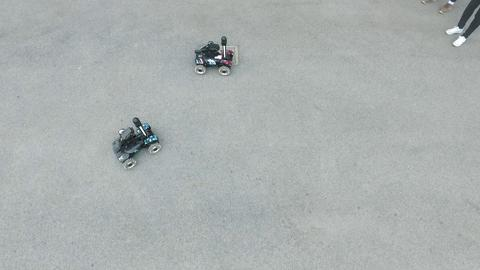chariot: (108, 111, 163, 170), (191, 30, 234, 77)
